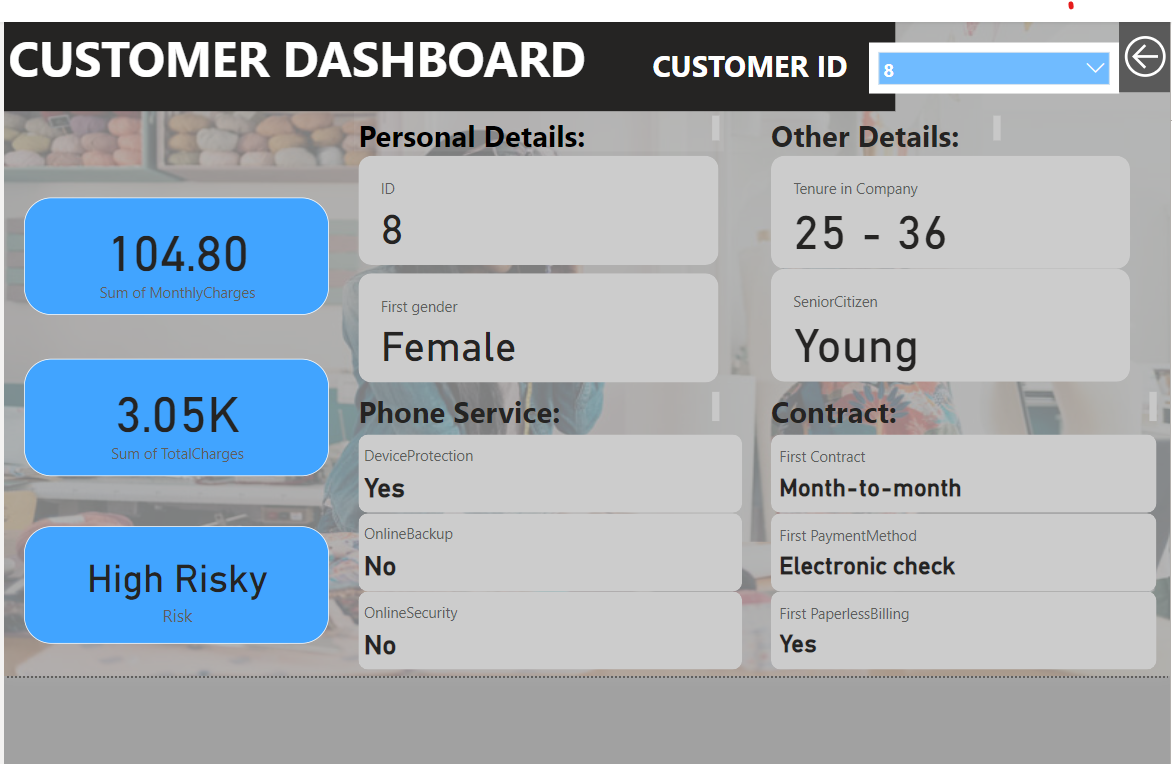

This screenshot's page, from the dashboard's own definition file:
{"tool":"powerbi","page":{"name":"Customer Details","canvas":[1280,720],"ordinal":2},"visuals":[{"type":"textbox","box":[0,0,977.6,100.1],"z":0},{"type":"slicer","fields":{"Values":["Telco-Customer-Churn.customerID"]},"box":[948.8,23.3,264.6,56.2],"z":1000},{"type":"card","title":"Total Charges","fields":{"Values":["Sum(Telco-Customer-Churn.MonthlyCharges)"]},"box":[21.9,194.7,334.5,128.9],"z":2000},{"type":"card","title":"Total Charges","fields":{"Values":["Sum(Telco-Customer-Churn.TotalCharges)"]},"box":[21.9,431.9,334.5,128.9],"z":3000},{"type":"cardVisual","fields":{"Data":["Min(Telco-Customer-Churn.customerID)","Min(Telco-Customer-Churn.gender)"]},"box":[383.9,144,431.9,259.1],"z":4000},{"type":"textbox","box":[383.9,100.1,405.8,43.9],"z":5000},{"type":"textbox","box":[383.9,403.1,405.8,46.6],"z":6000},{"type":"textbox","box":[836.3,403.1,433.3,46.6],"z":7000},{"type":"textbox","box":[836.3,100.1,261.9,43.9],"z":8000},{"type":"cardVisual","fields":{"Data":["Min(Telco-Customer-Churn.SeniorCitizen - Fixed)","Sum(Telco-Customer-Churn.tenure)"]},"box":[836.3,144,404.5,259.1],"z":9000},{"type":"cardVisual","fields":{"Data":["Min(Telco-Customer-Churn.Contract)","Min(Telco-Customer-Churn.PaymentMethod)","Min(Telco-Customer-Churn.PaperlessBilling)"]},"box":[836.3,449.7,433.3,270.1],"z":10000},{"type":"cardVisual","fields":{"Data":["Min(Telco-Customer-Churn.DeviceProtection)","Min(Telco-Customer-Churn.OnlineBackup)","Min(Telco-Customer-Churn.OnlineSecurity)"]},"box":[383.9,449.7,431.9,270.1],"z":11000},{"type":"actionButton","box":[1223,0,57.6,79.5],"z":12000}]}

Visuals, with their boxes on the page's 1280x720 design canvas (x1, y1, x2, y2). These are canvas units, not pixel positions in the 1172x764 screenshot, which may show the page scaled, cropped or inside an application window:
textbox: x1=0 y1=0 x2=978 y2=100
slicer - Telco-Customer-Churn.customerID: x1=949 y1=23 x2=1213 y2=80
"Total Charges" card: x1=22 y1=195 x2=356 y2=324
"Total Charges" card: x1=22 y1=432 x2=356 y2=561
cardVisual - Min(Telco-Customer-Churn.customerID) x Min(Telco-Customer-Churn.gender): x1=384 y1=144 x2=816 y2=403
textbox: x1=384 y1=100 x2=790 y2=144
textbox: x1=384 y1=403 x2=790 y2=450
textbox: x1=836 y1=403 x2=1270 y2=450
textbox: x1=836 y1=100 x2=1098 y2=144
cardVisual - Min(Telco-Customer-Churn.SeniorCitizen - Fixed) x Sum(Telco-Customer-Churn.tenure): x1=836 y1=144 x2=1241 y2=403
cardVisual - Min(Telco-Customer-Churn.Contract) x Min(Telco-Customer-Churn.PaymentMethod): x1=836 y1=450 x2=1270 y2=720
cardVisual - Min(Telco-Customer-Churn.DeviceProtection) x Min(Telco-Customer-Churn.OnlineBackup): x1=384 y1=450 x2=816 y2=720
actionButton: x1=1223 y1=0 x2=1281 y2=80
